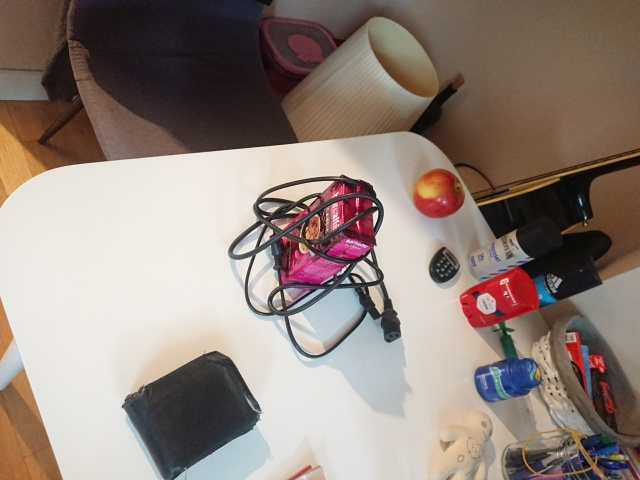Barcaffe Classic Original 225g: (273, 172, 379, 294)
